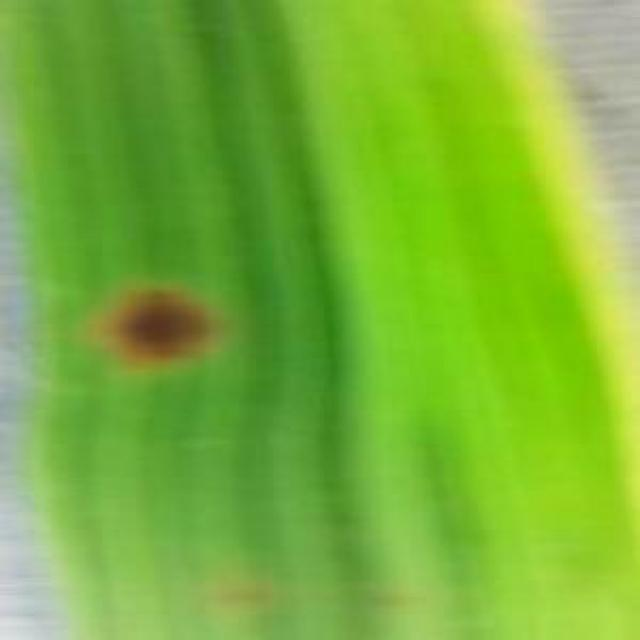Rice_Brownspot: (70, 260, 244, 390)
